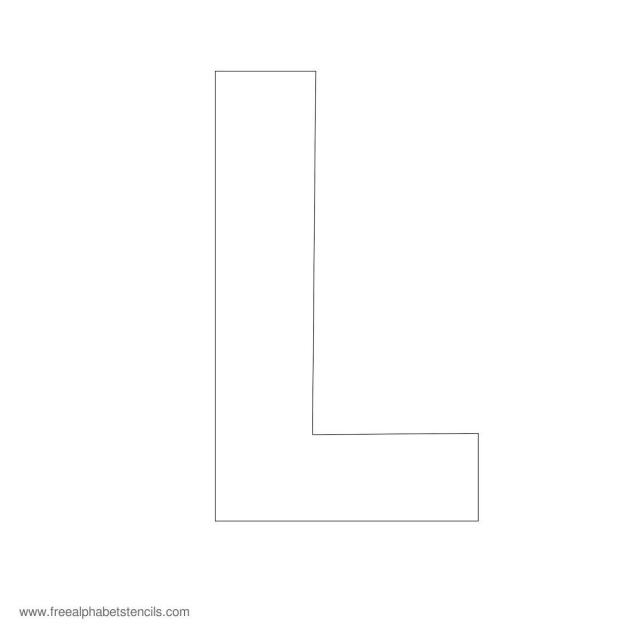L: (125, 41, 531, 588)
